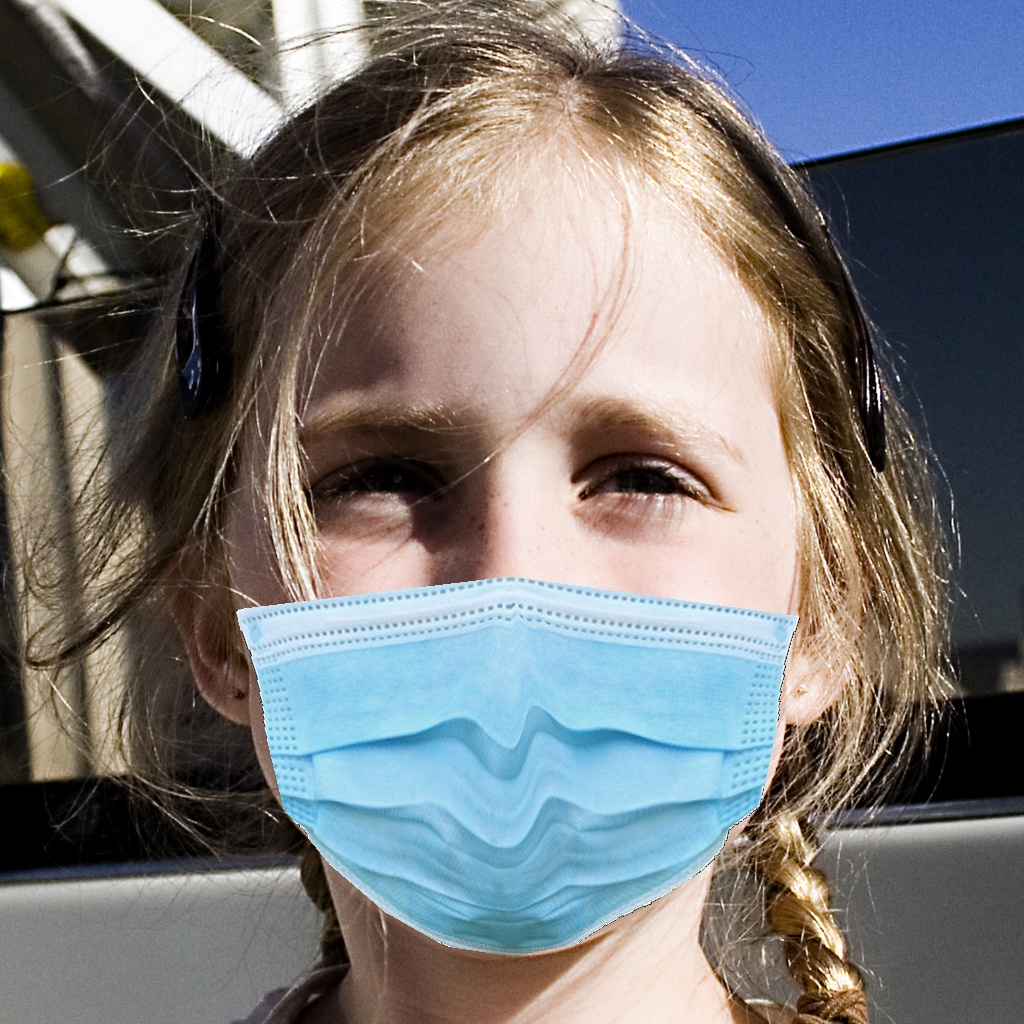with_mask: (238, 389, 793, 943)
